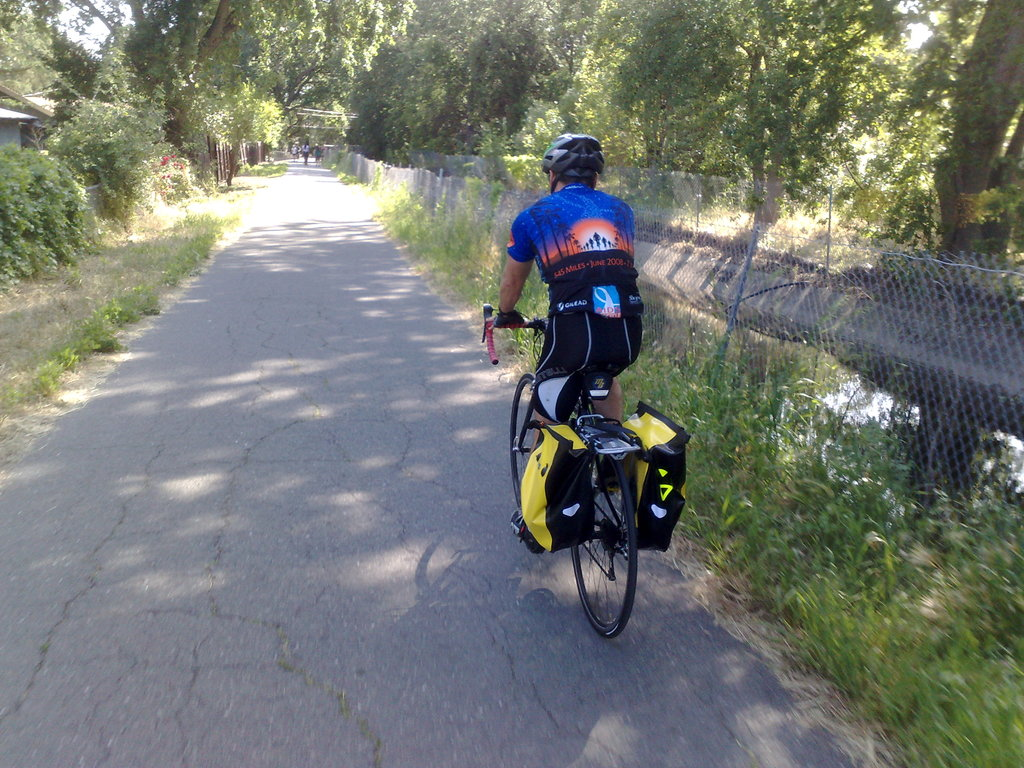Bike: (407, 299, 752, 717)
